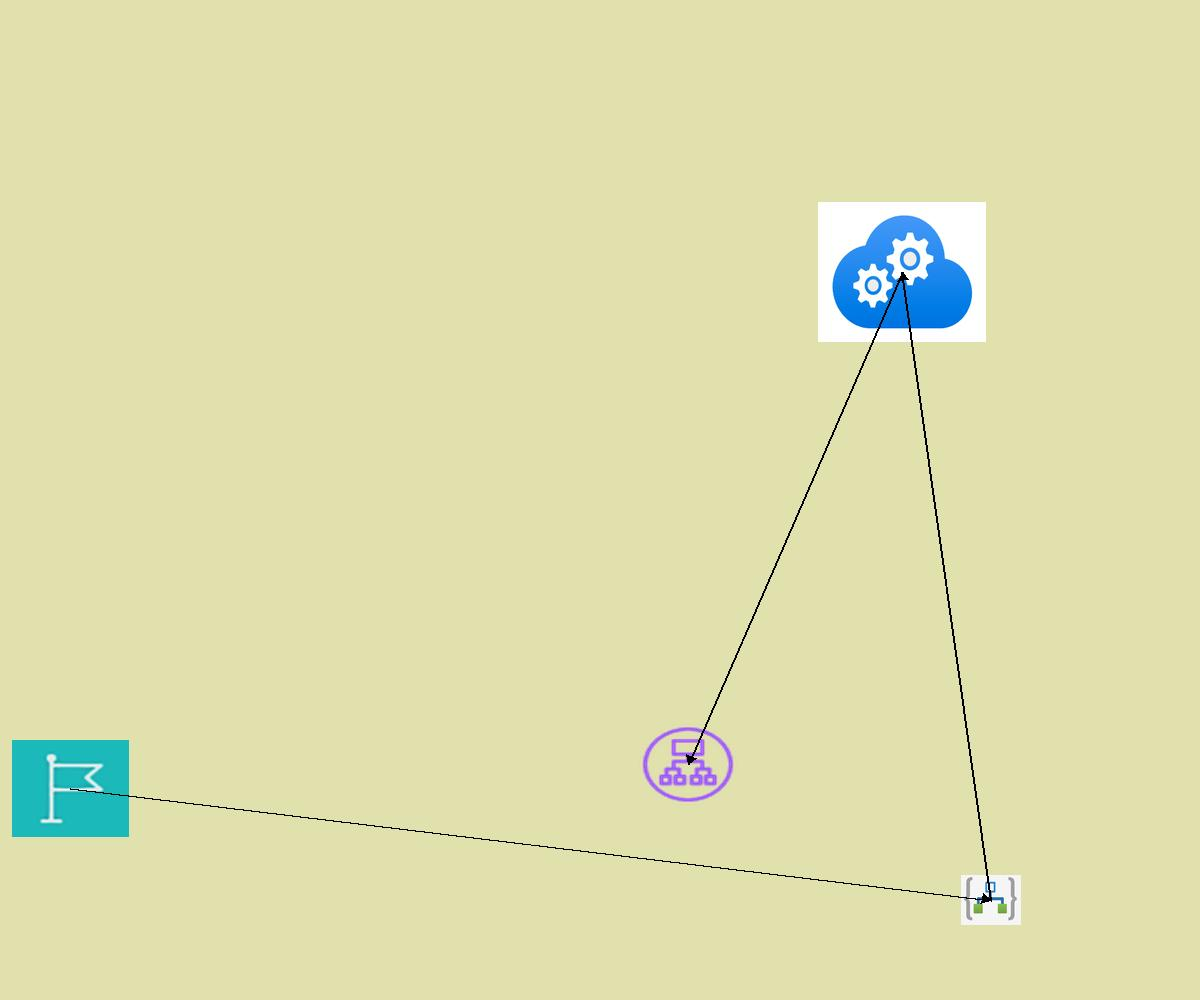AWS-Region: (12, 740, 129, 837)
AWS-Res_Elastic-Load-Balancing_Application-Load-Balancer: (639, 724, 737, 805)
Azure_cloud_services: (818, 202, 986, 342)
Azure_integration-204-Logic-Apps: (961, 875, 1021, 925)
